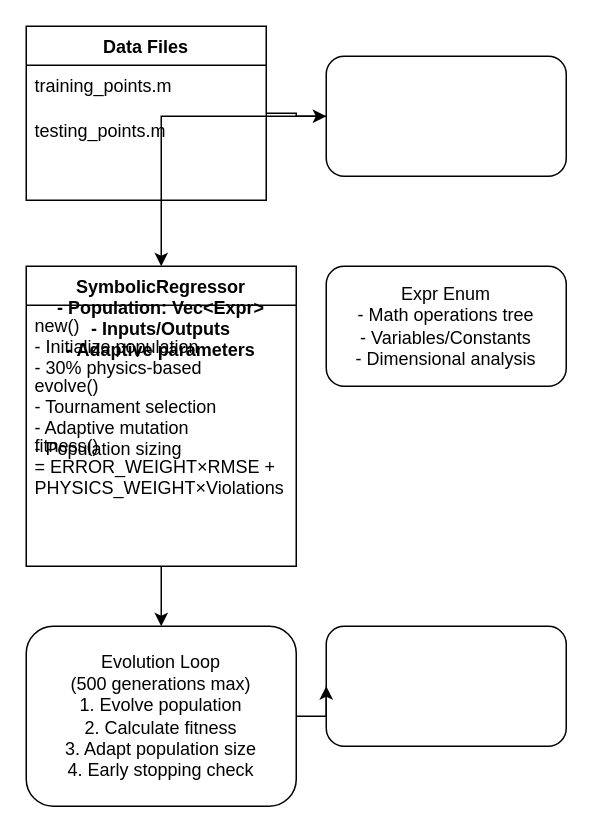
Image size: 593x833. Some labels were removed from this diagram. The box of each missing label's shape, as (x1, y1, x2, y2) in pixels:
Output - Best symbolic expression - Training/Test metrics - Execution statistics: (325, 625, 566, 746)
parse_data_file() - Read MATLAB-style array - Convert mV→V - Normalize values: (325, 55, 566, 176)
